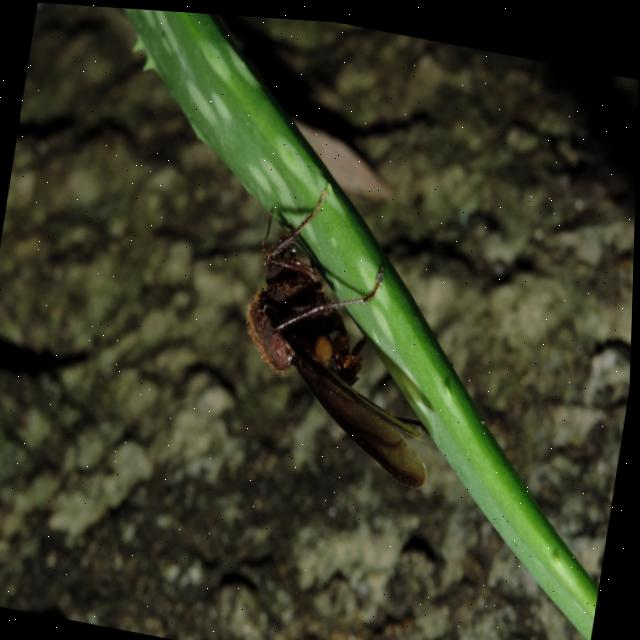Alive-Female-Alate: (226, 171, 468, 487)
